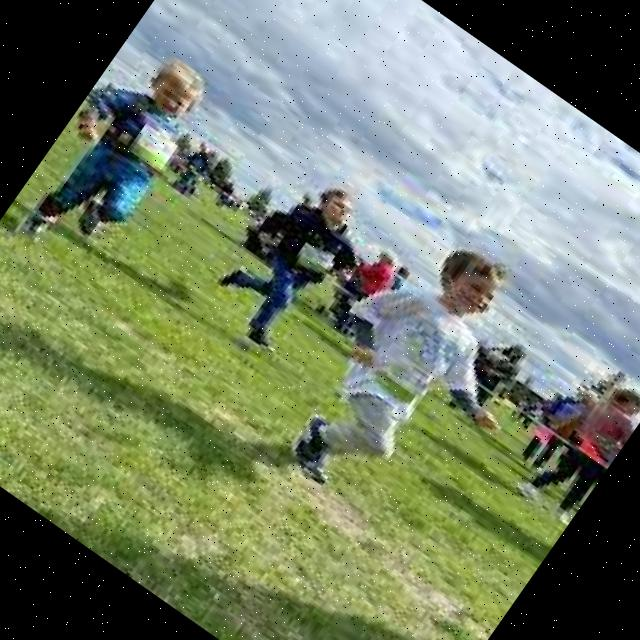Person: (258, 209, 577, 552), (2, 30, 218, 278), (202, 162, 382, 362)
